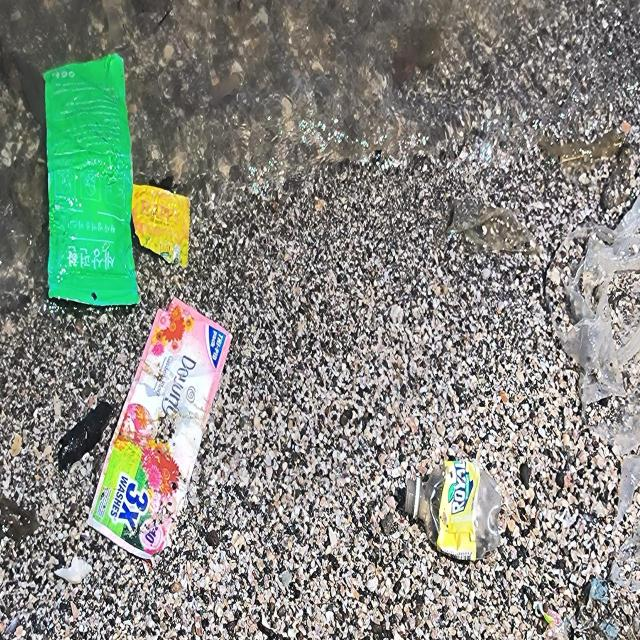plastic_waste: (88, 296, 234, 565), (44, 53, 143, 308), (405, 457, 505, 564), (133, 185, 192, 271)
